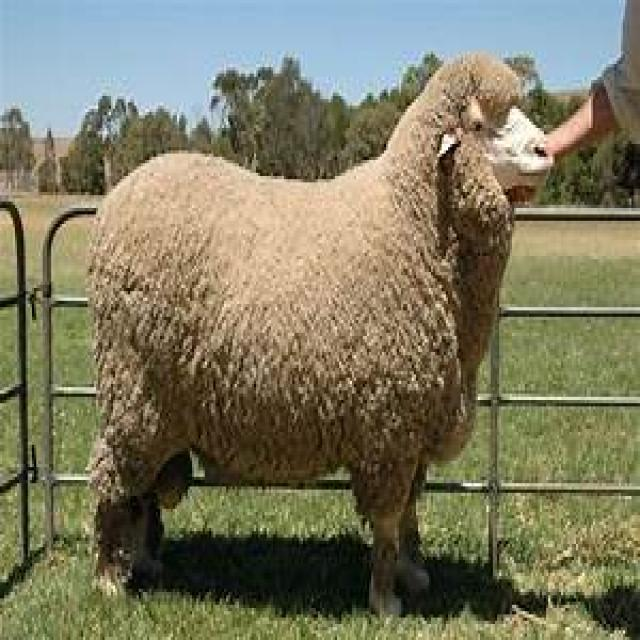animal: (59, 45, 558, 640)
